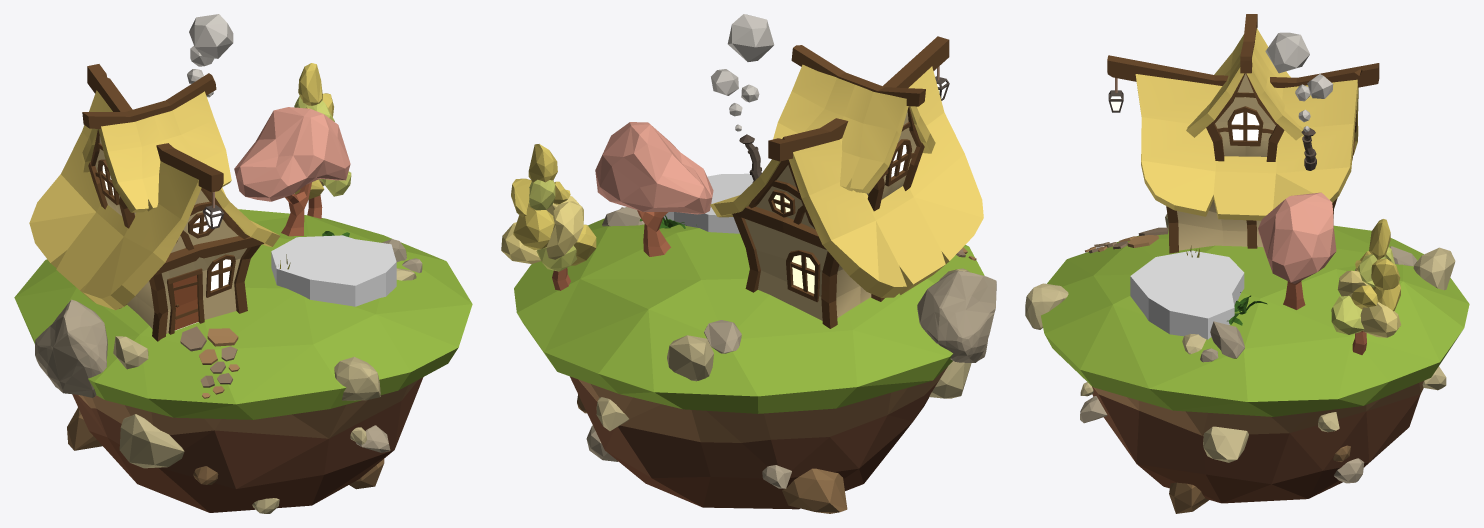
The picture shows the model from 3 angles, left to right: view 1: azimuth 30°, elevation 25°; view 2: azimuth 150°, elevation 25°; view 3: azimuth 270°, elevation 25°; orthographic projection. The views are drawn at different scales.
Visible parts, largest first — view 1: Landscape, Landscape.001, Roof, House.002, Icosphere.007, Cutter, Icosphere.024, House, Cube, Icosphere.025, Cube.001, Icosphere.014 (+13 smaller); view 2: Landscape, Landscape.001, Roof, House.002, Icosphere.007, House, Icosphere.024, Cube, Icosphere.026, Cutter, Cube.001, Icosphere.033 (+21 smaller); view 3: Landscape, Landscape.001, Roof, Cutter, Icosphere.007, House.002, Cube, House, House.001, Icosphere.022, Icosphere.037, Icosphere.033 (+12 smaller).
Part boxes in pixels (x1,y1,x2,y2): Landscape: [14, 209, 472, 419]; Landscape.001: [72, 377, 423, 512]; Roof: [29, 90, 280, 310]; House.002: [80, 91, 231, 212]; Icosphere.007: [234, 107, 350, 201]; Cutter: [271, 235, 396, 306]; Icosphere.024: [35, 299, 107, 397]; House: [127, 190, 246, 333]; Cube: [87, 64, 223, 192]; Icosphere.025: [119, 414, 184, 468]; Cube.001: [82, 73, 216, 128]; Icosphere.014: [334, 356, 380, 400]; Landscape: [514, 218, 984, 413]; Landscape.001: [570, 366, 947, 509]; Roof: [710, 66, 983, 297]; House.002: [773, 64, 935, 193]; Icosphere.007: [595, 122, 713, 214]; House: [745, 165, 871, 320]; Icosphere.024: [917, 270, 996, 362]; Cube: [768, 36, 949, 161]; Icosphere.026: [782, 468, 847, 513]; Cutter: [663, 173, 753, 233]; Cube.001: [791, 45, 925, 106]; Icosphere.033: [667, 335, 713, 381]; Landscape: [1041, 225, 1469, 416]; Landscape.001: [1092, 380, 1424, 503]; Roof: [1135, 74, 1358, 220]; Cutter: [1130, 250, 1244, 339]; Icosphere.007: [1258, 192, 1336, 283]; House.002: [1186, 28, 1303, 140]; Cube: [1107, 55, 1379, 87]; House: [1177, 200, 1262, 250]; House.001: [1215, 73, 1275, 156]; Icosphere.022: [1203, 426, 1248, 462]; Icosphere.037: [1265, 32, 1309, 73]; Icosphere.033: [1413, 247, 1455, 290].
Size of the model in its own units: 643 by 685 by 635.
